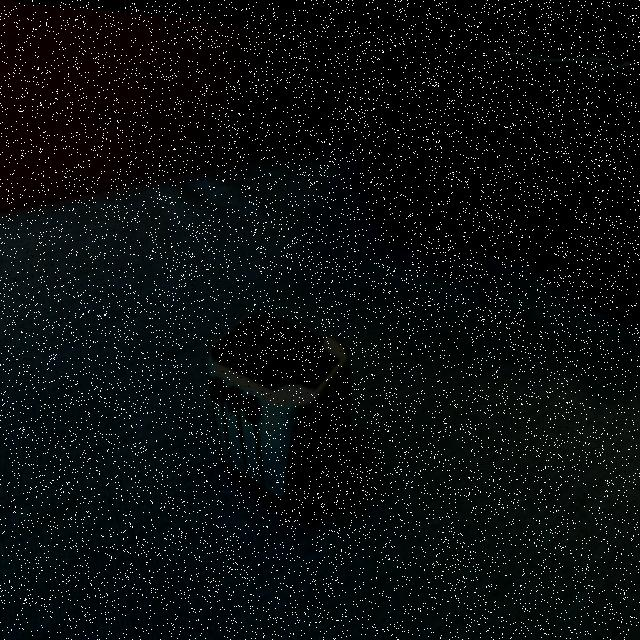adapter: (205, 300, 353, 515)
